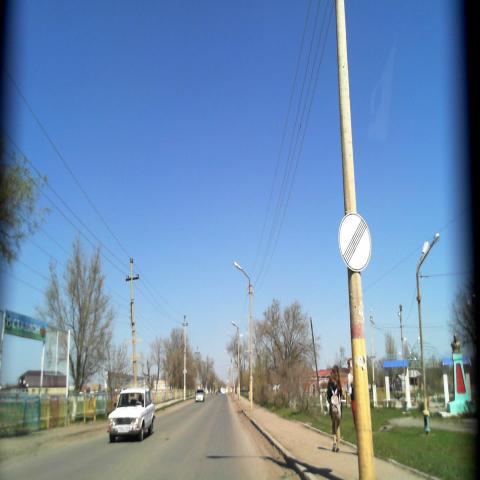3_31: (338, 210, 372, 274)
